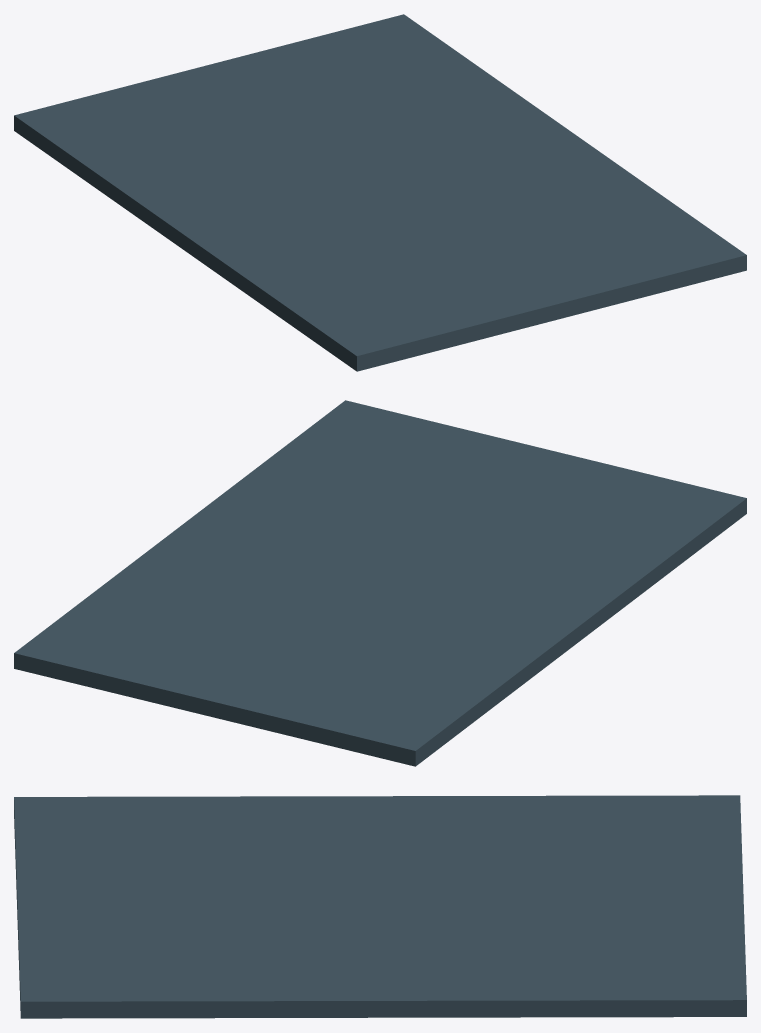
File: group336620870_lev3.glb
3 views of the same model, one above another, from view 1: azimuth 30°, elevation 25°; view 2: azimuth 150°, elevation 25°; view 3: azimuth 270°, elevation 25° (orthographic). The views are drawn at different scales.
Parts seen in each view (by area): view 1: group336620870_lev3; view 2: group336620870_lev3; view 3: group336620870_lev3.
Boxes of the visible parts, x1=… form: group336620870_lev3: x1=14, y1=14, x2=746, y2=371; group336620870_lev3: x1=14, y1=400, x2=746, y2=766; group336620870_lev3: x1=14, y1=795, x2=746, y2=1018.
Size of the model in its own units: 3.4 by 0.1695 by 4.97.
